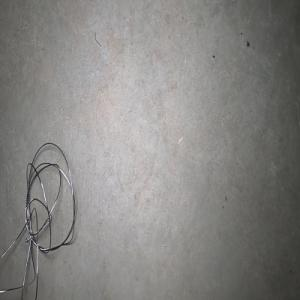Wire: (0, 142, 75, 300)
